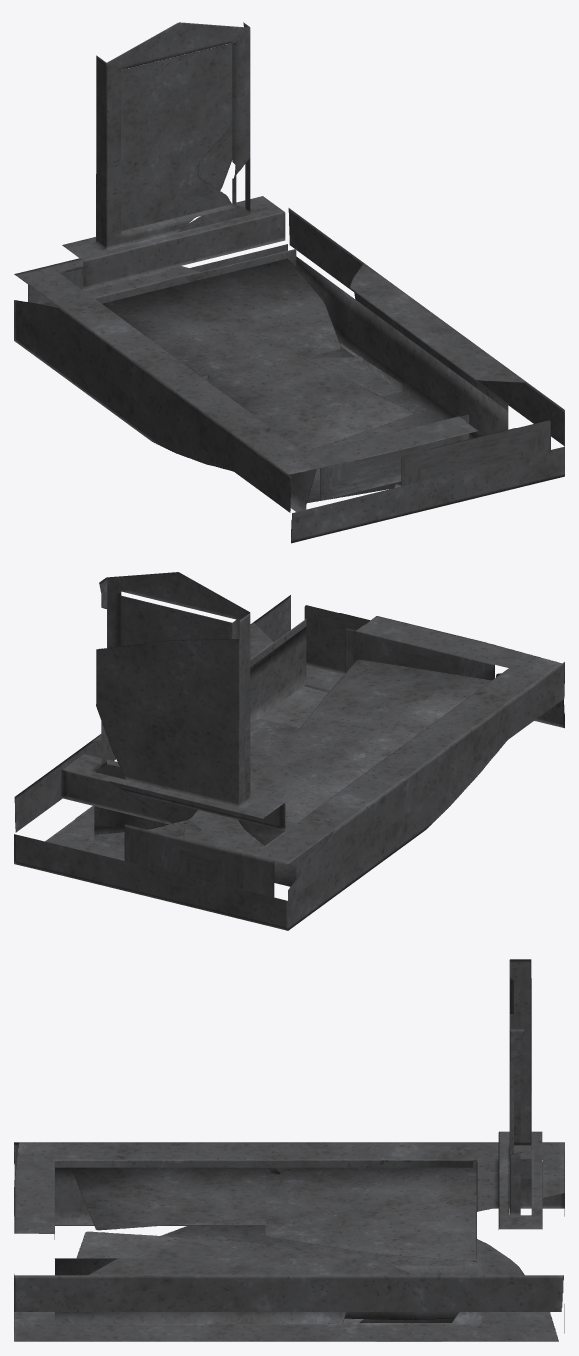
File: grave_09.fbx
3 views of the same model, one above another, from view 1: azimuth 30°, elevation 25°; view 2: azimuth 150°, elevation 25°; view 3: azimuth 270°, elevation 25° (orthographic).
Visible parts, largest first — view 1: grave.008; view 2: grave.008; view 3: grave.008.
Part boxes in pixels (x1,y1,x2,y2): grave.008: [14, 22, 564, 543]; grave.008: [14, 572, 564, 930]; grave.008: [14, 959, 564, 1341].
Size of the model in its own units: 199 by 212 by 349.
